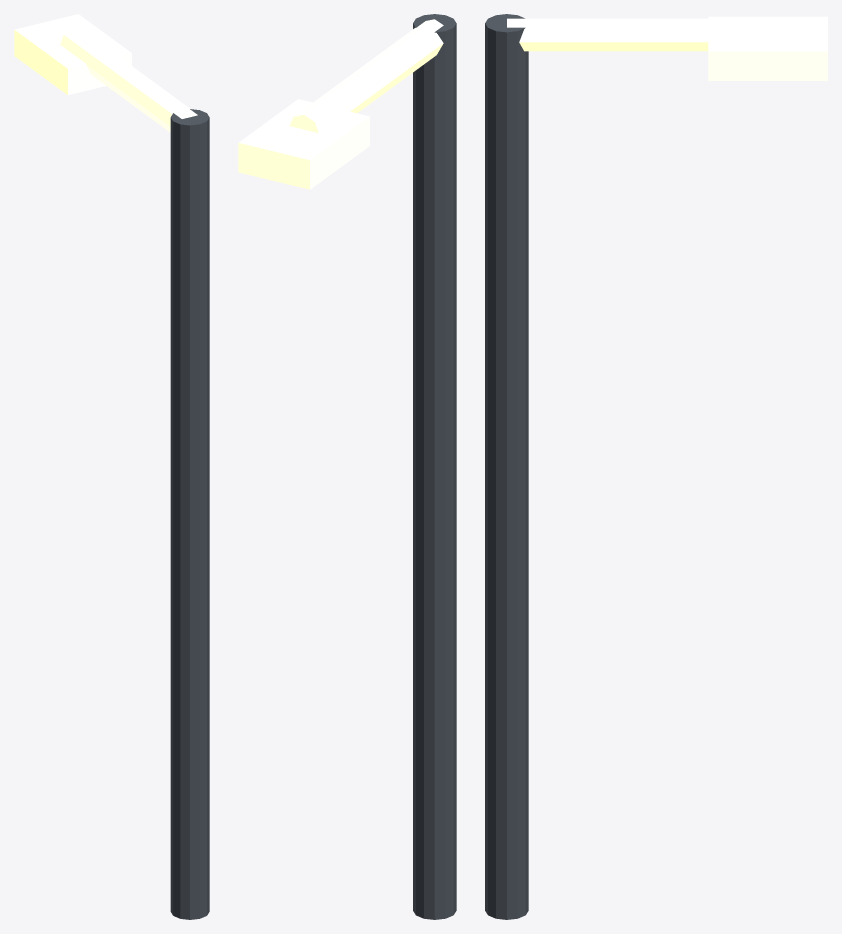
Rendered from streetlight_b.glb.
3 views of the same model, side by side, from view 1: azimuth 30°, elevation 25°; view 2: azimuth 150°, elevation 25°; view 3: azimuth 270°, elevation 25° (orthographic). The views are drawn at different scales.
Parts seen in each view (by area): view 1: streetlight_b; view 2: streetlight_b; view 3: streetlight_b.
Part boxes in pixels (bbox=[...]): streetlight_b: bbox=[14, 14, 209, 919]; streetlight_b: bbox=[238, 14, 456, 919]; streetlight_b: bbox=[485, 14, 827, 919].
Bounding box in the file's own units: 0.0269 × 0.32 × 0.1115.
